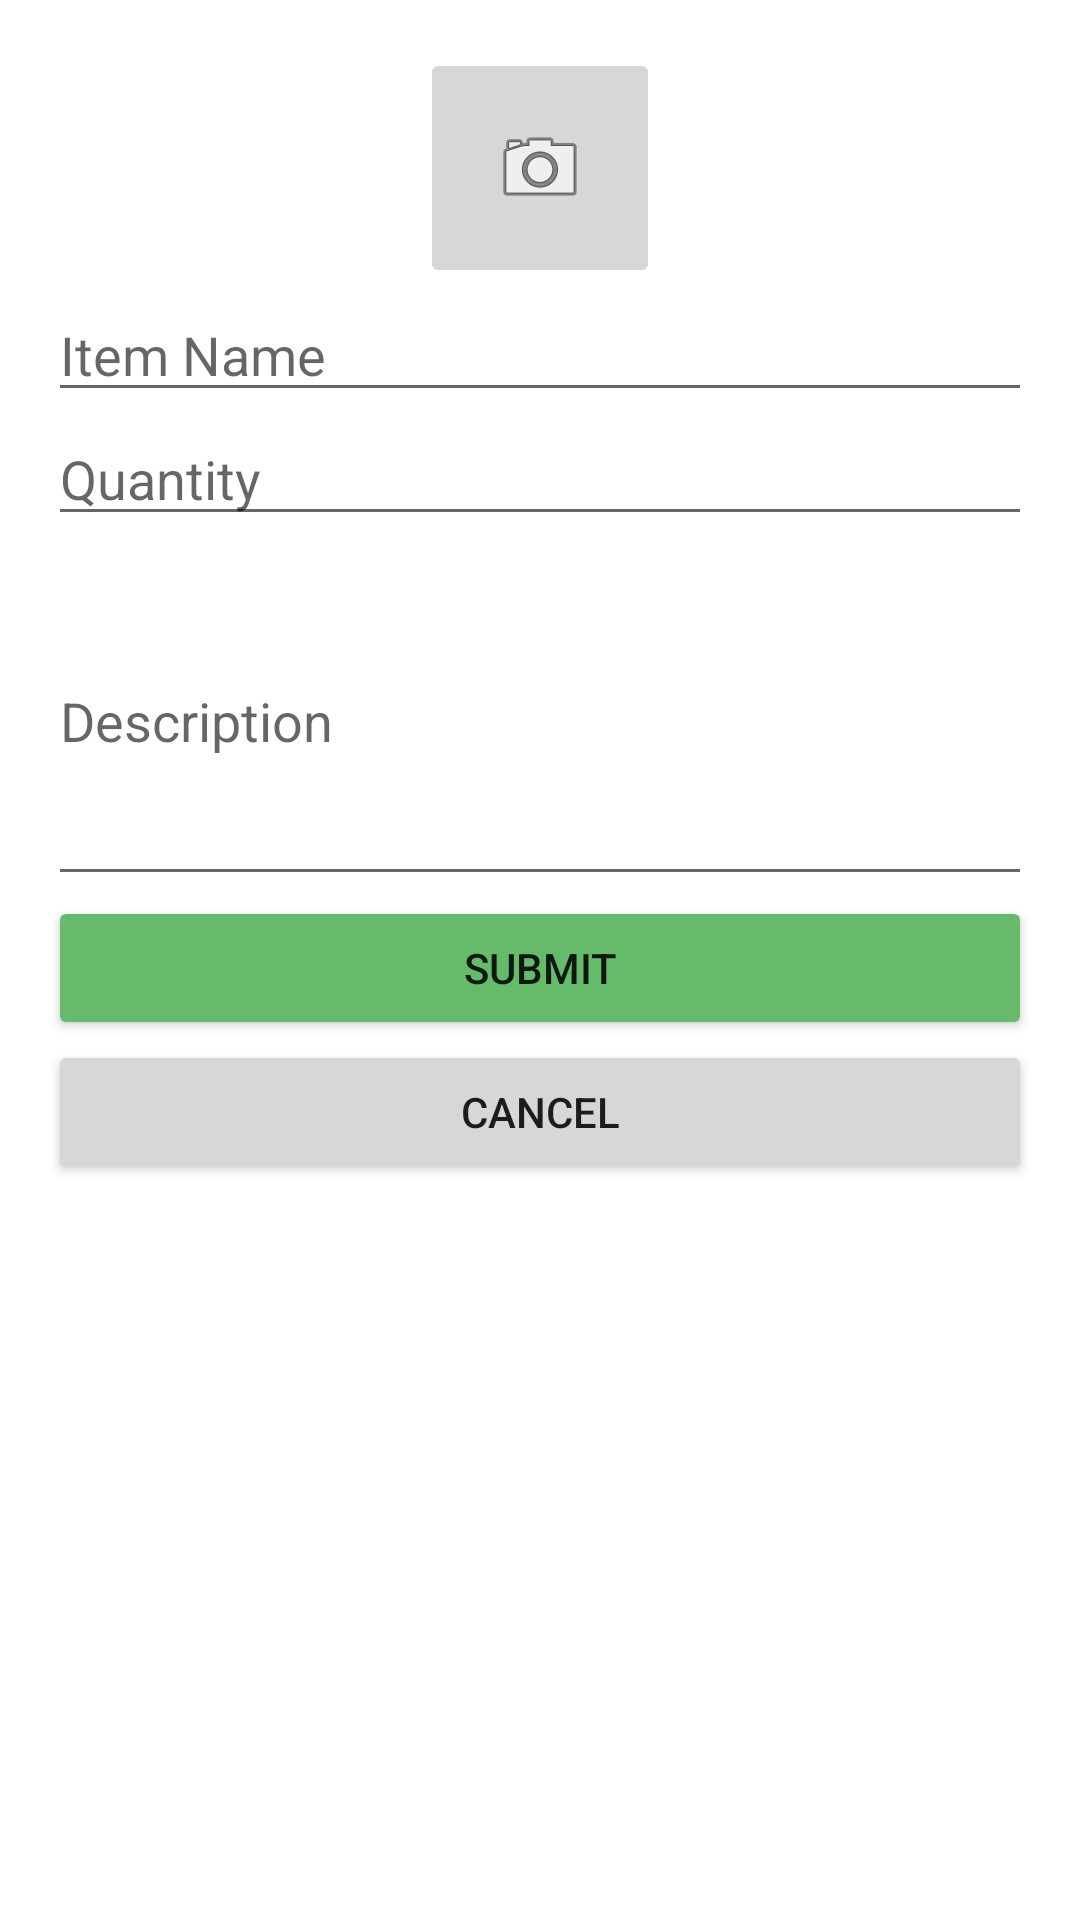

Icons on this 1080 × 1920 Android screen, each with the point to tap as point (x, y):
camera: point (540, 168)
